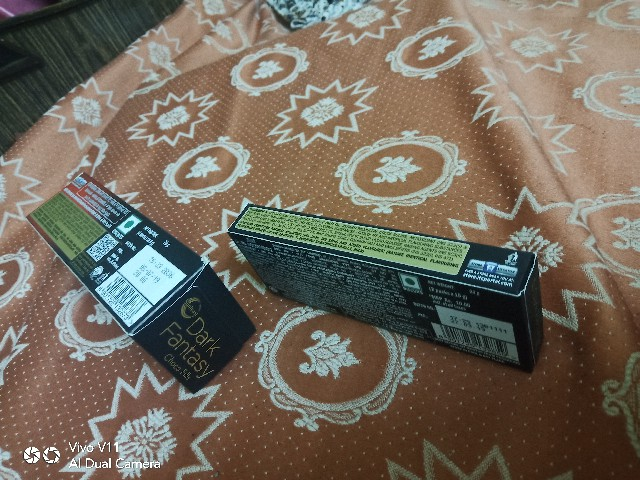darkfantasy big: (19, 164, 246, 424)
darkfantasy small: (229, 191, 560, 370)
